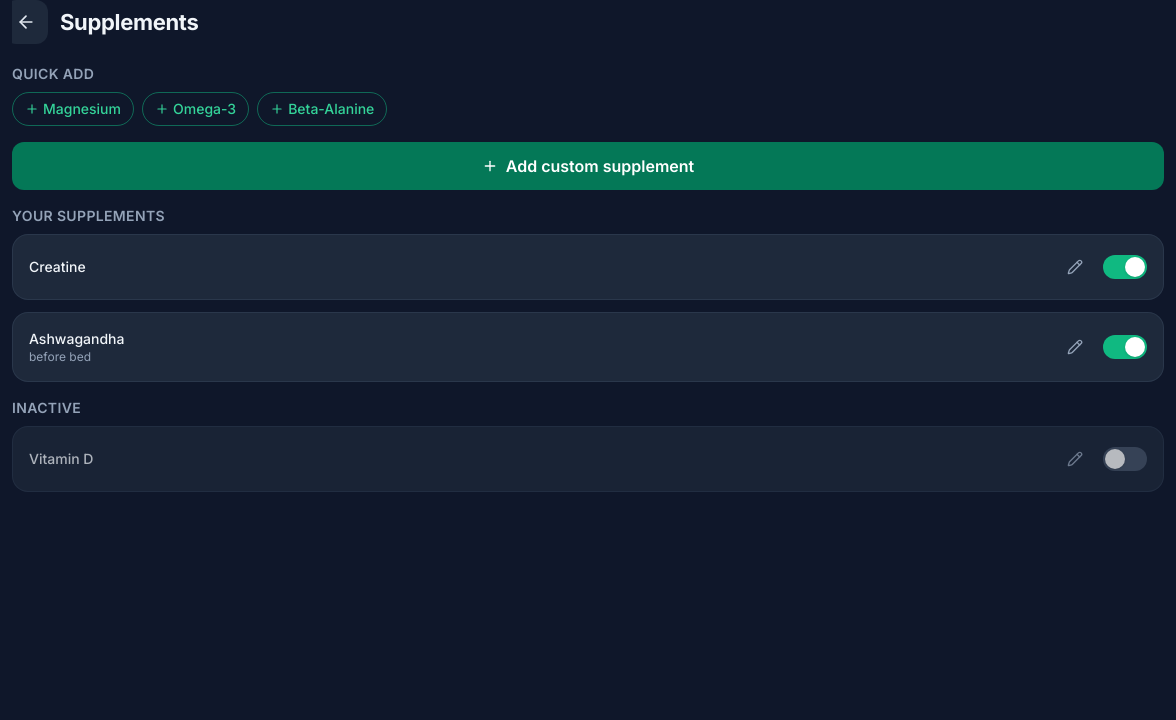
Scenario: custom add › requires a name
Click the button "Add custom supplement" at point(588, 166), box [12, 142, 1164, 190]
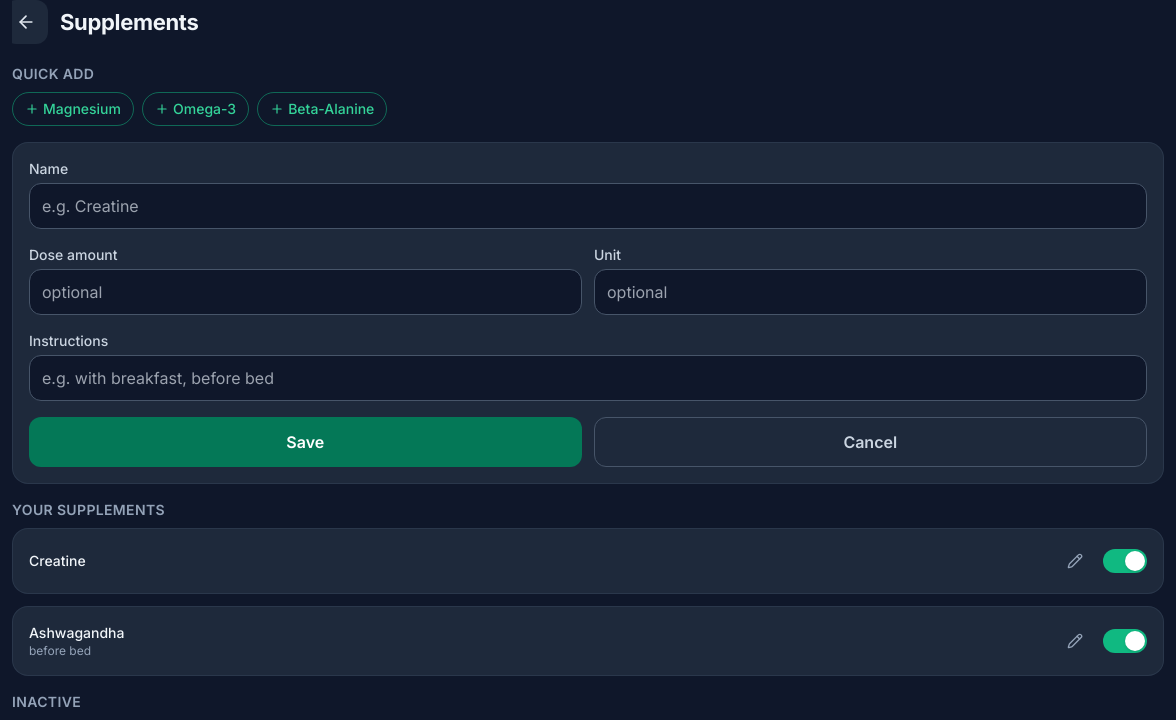
Click the button "Save" at point(305, 442), box [29, 417, 582, 467]
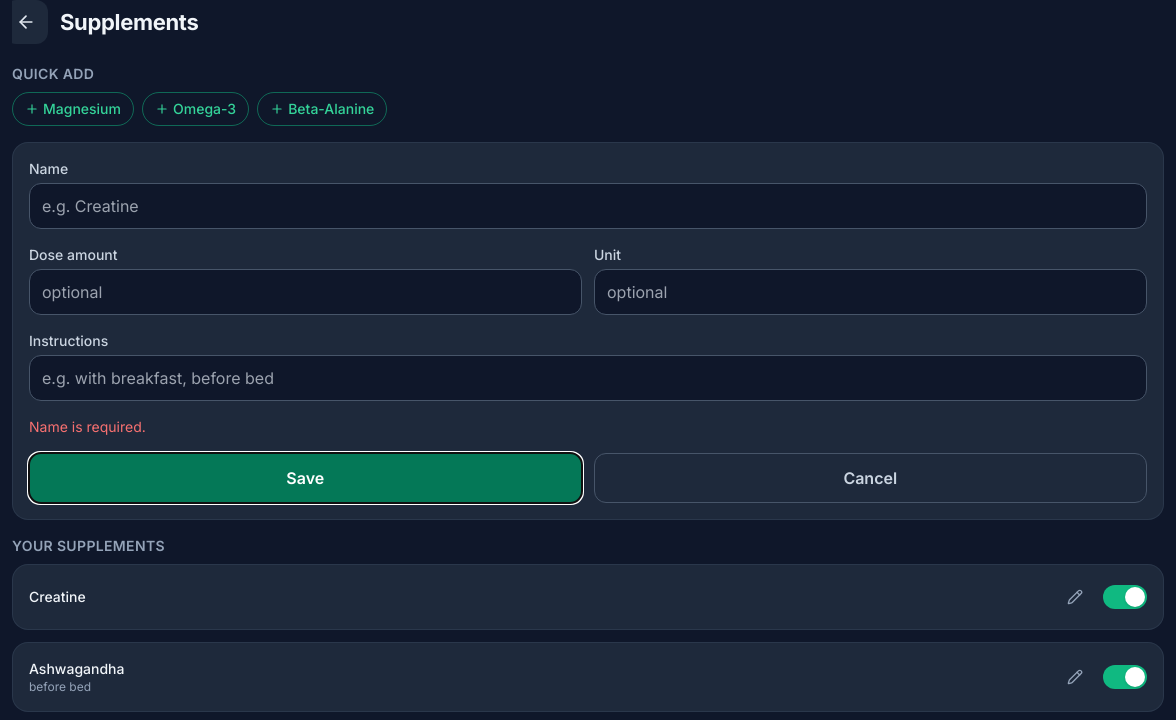
Expected: the message shows "Name", [29, 418, 146, 435]
